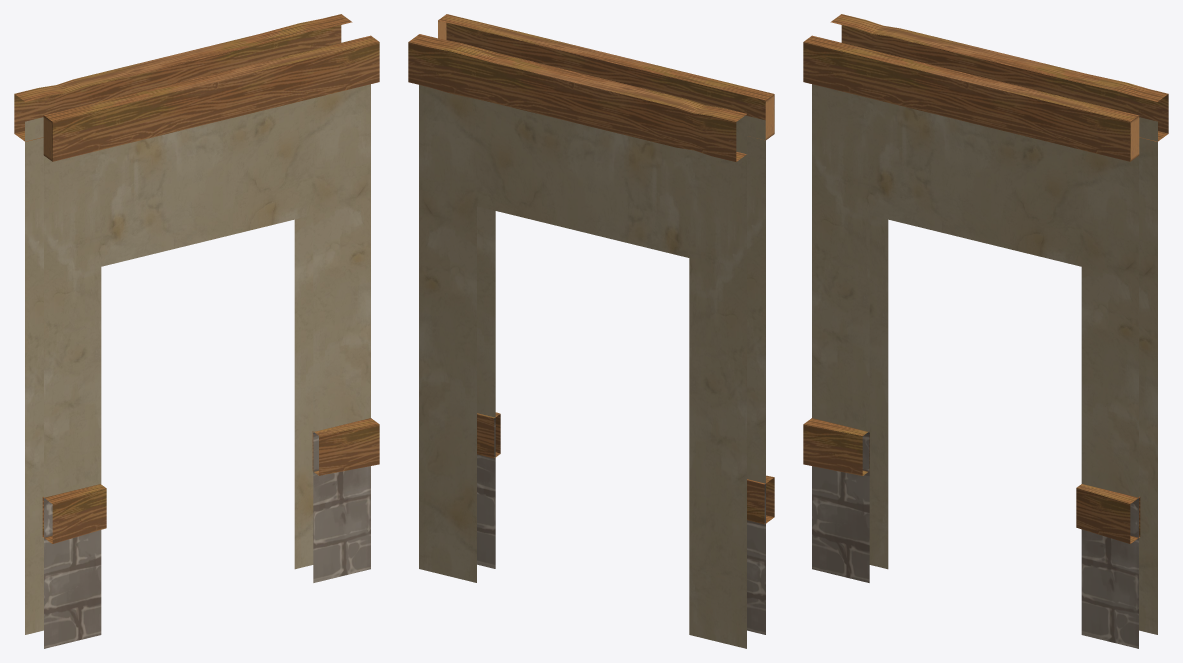
Rendered from Wall_Plaster_Door_Flat.gltf.
3 views of the same model, side by side, from view 1: azimuth 30°, elevation 25°; view 2: azimuth 150°, elevation 25°; view 3: azimuth 330°, elevation 25° (orthographic).
Parts seen in each view (by area): view 1: Wall_Plaster_Door_Flat; view 2: Wall_Plaster_Door_Flat; view 3: Wall_Plaster_Door_Flat.
Part boxes in pixels (left/top/right/bottom): Wall_Plaster_Door_Flat: left=14, top=14, right=379, bottom=648; Wall_Plaster_Door_Flat: left=408, top=14, right=774, bottom=648; Wall_Plaster_Door_Flat: left=803, top=14, right=1168, bottom=648.
Size of the model in its own units: 2 by 3.12 by 0.4065.
3 materials, 3 textured.
